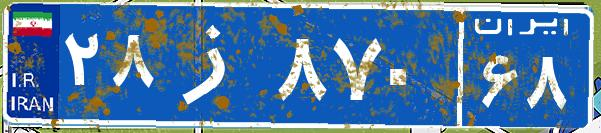0: (385, 28, 445, 110)
2: (57, 26, 110, 107)
6: (475, 38, 525, 113)
7: (330, 28, 385, 110)
8: (273, 28, 330, 110), (110, 28, 158, 105), (525, 38, 570, 115)
ز: (158, 15, 273, 115)
